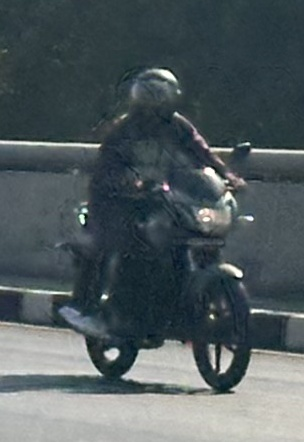BikeWithRider: (46, 57, 264, 397)
Helmet: (121, 60, 190, 124)
